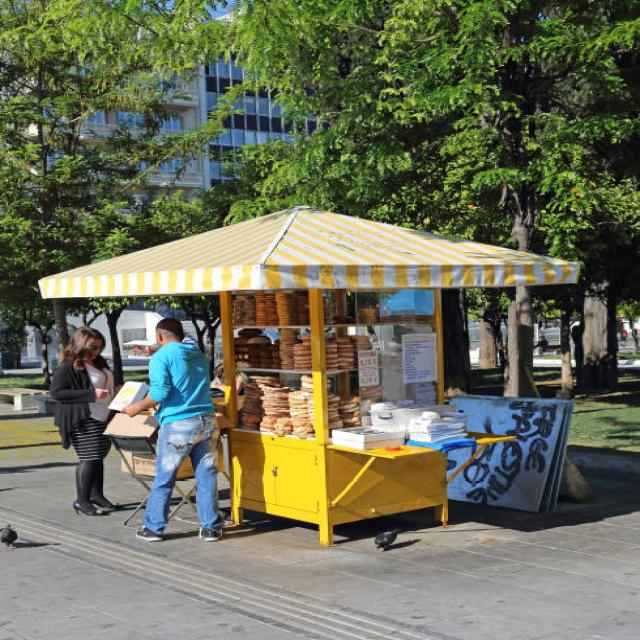Emperan: (24, 188, 596, 560)
